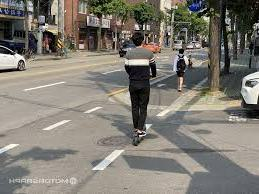nonhelmet: (118, 32, 159, 147)
